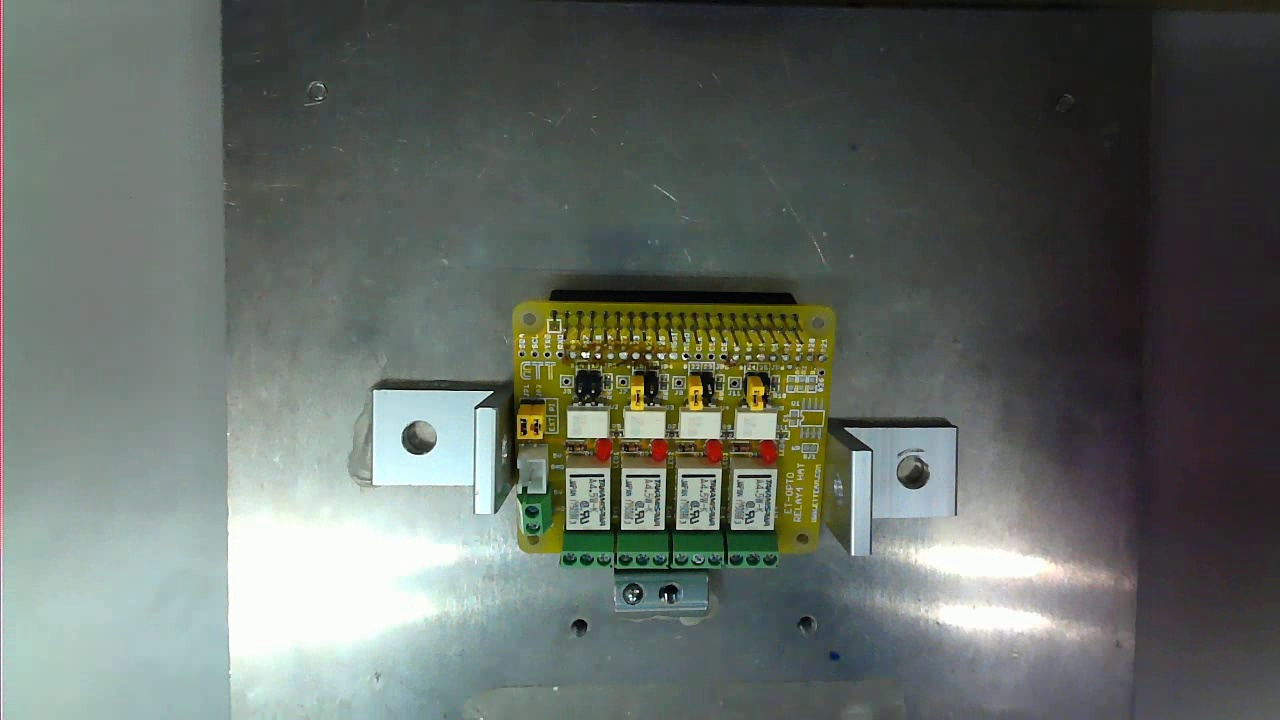can: (493, 295, 840, 575)
